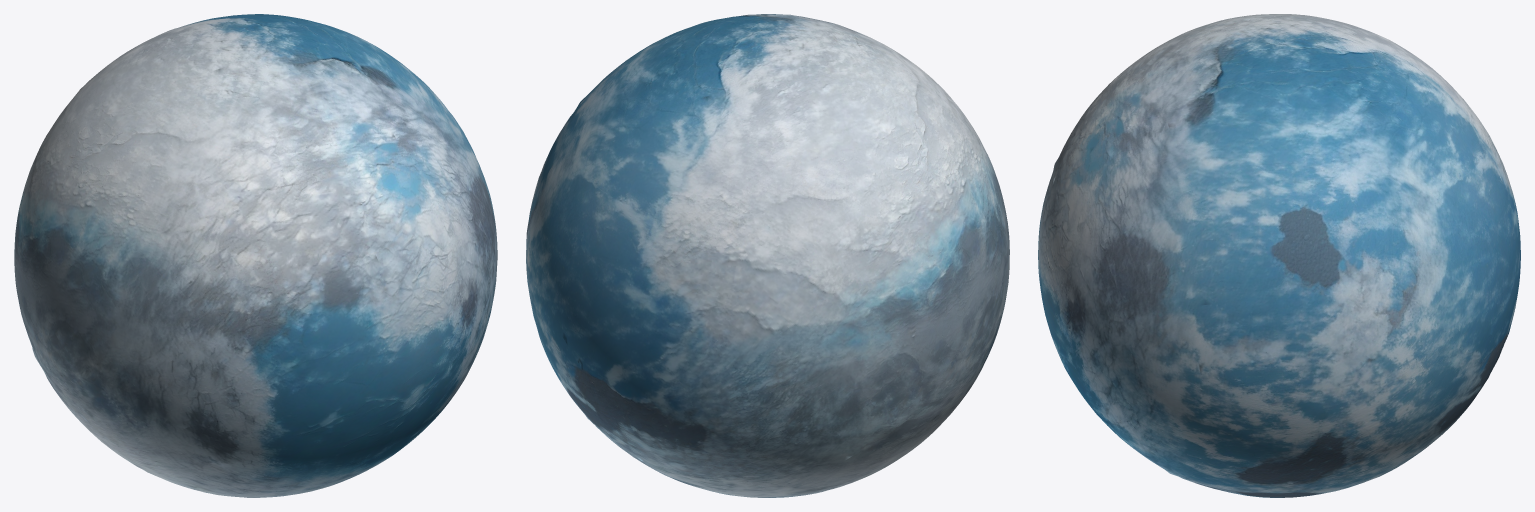
File: hoth.glb
The picture shows the model from 3 angles, left to right: view 1: azimuth 30°, elevation 25°; view 2: azimuth 150°, elevation 25°; view 3: azimuth 270°, elevation 25°; orthographic projection.
Parts seen in each view (by area): view 1: Cryonox; view 2: Cryonox; view 3: Cryonox.
Boxes of the visible parts, bbox=[...] form: Cryonox: bbox=[14, 14, 497, 497]; Cryonox: bbox=[526, 14, 1009, 497]; Cryonox: bbox=[1038, 14, 1520, 497].
Size of the model in its own units: 2 by 2 by 2.
Materials: 1 (1 with a texture image).
